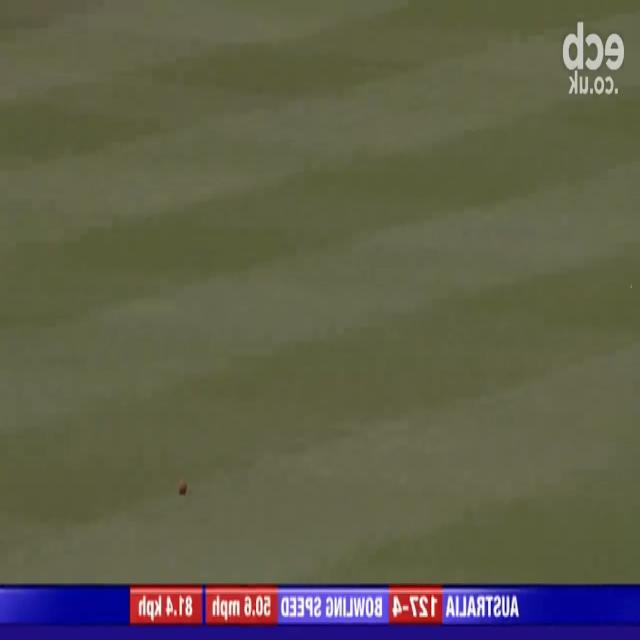ball: (173, 475, 191, 499)
